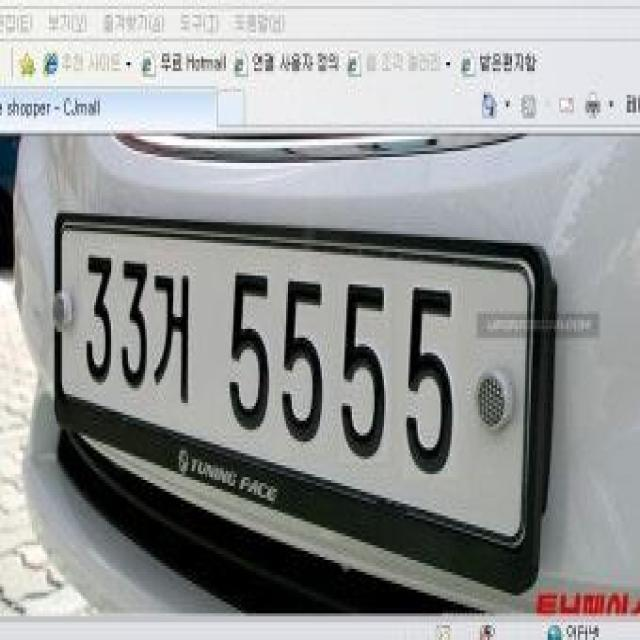car: (44, 201, 568, 582)
